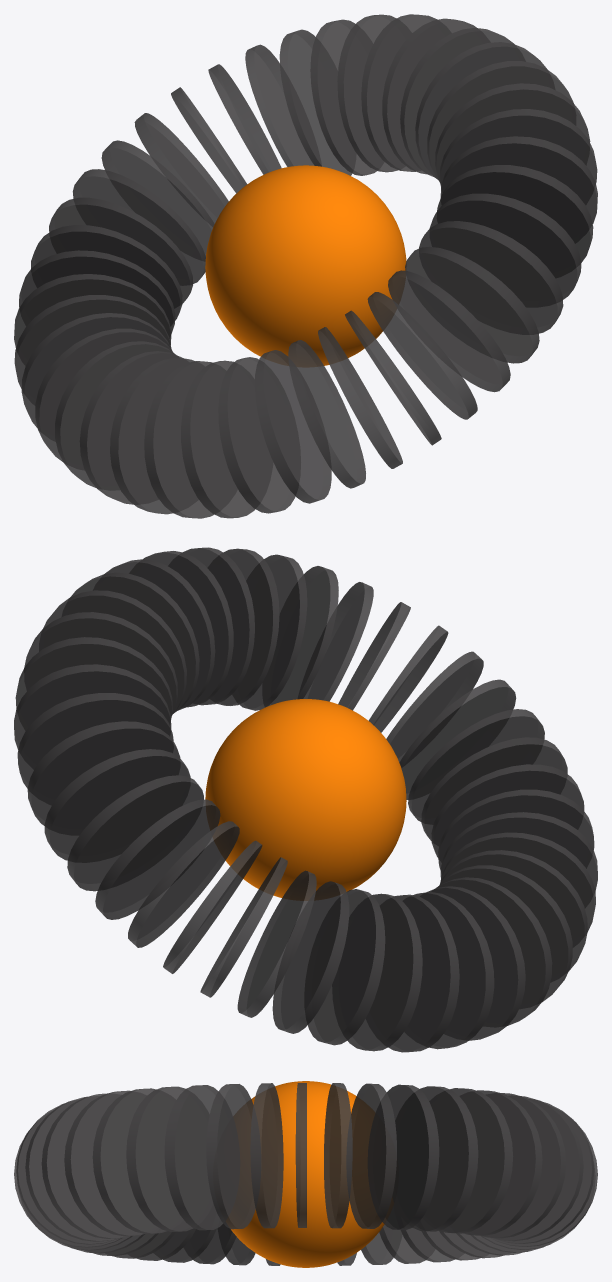
The model's file is ring.glb.
3 views of the same model, one above another, from view 1: azimuth 30°, elevation 25°; view 2: azimuth 150°, elevation 25°; view 3: azimuth 270°, elevation 25° (orthographic). The views are drawn at different scales.
Visible parts, largest first — view 1: ring, Sphere; view 2: ring, Sphere; view 3: ring, Sphere.
Part boxes in pixels (<box>): ring: <box>14,14,597,518</box>; Sphere: <box>205,165,406,365</box>; ring: <box>14,547,597,1052</box>; Sphere: <box>205,699,406,897</box>; ring: <box>14,1083,597,1265</box>; Sphere: <box>231,1081,384,1267</box>.
Size of the model in its own units: 7.21 by 5 by 8.02.
